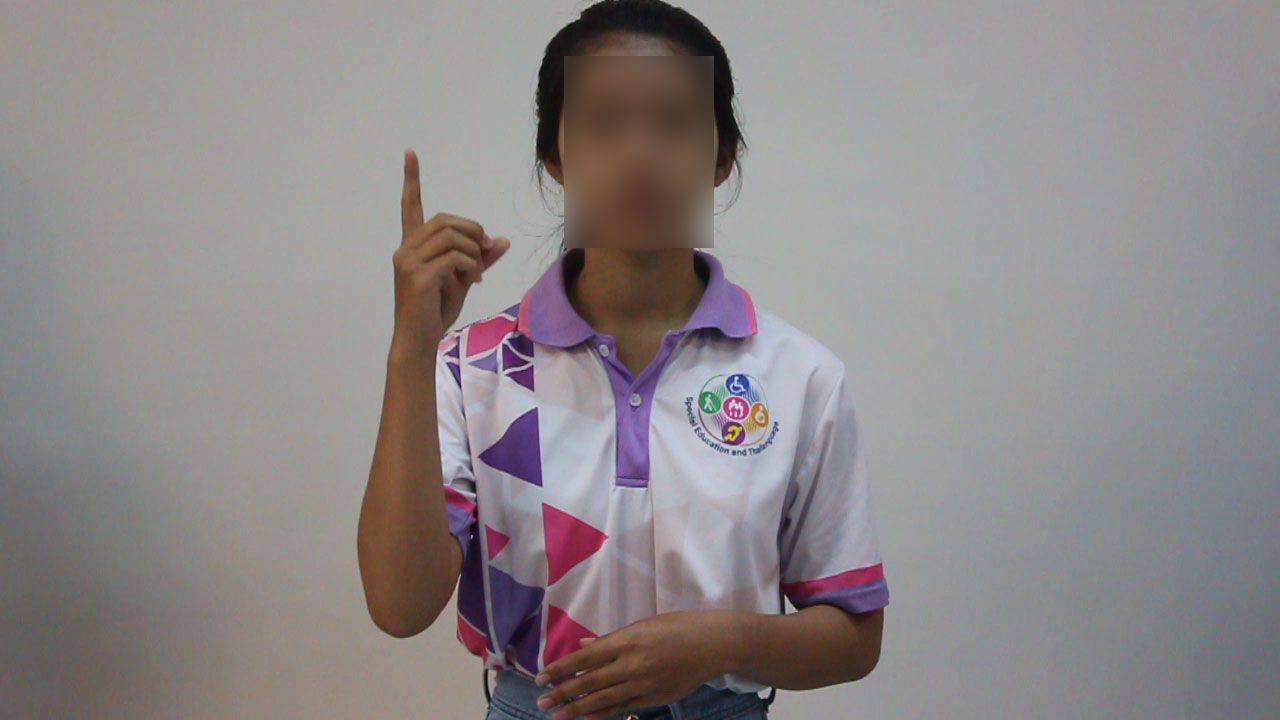dor: (381, 138, 521, 344)
